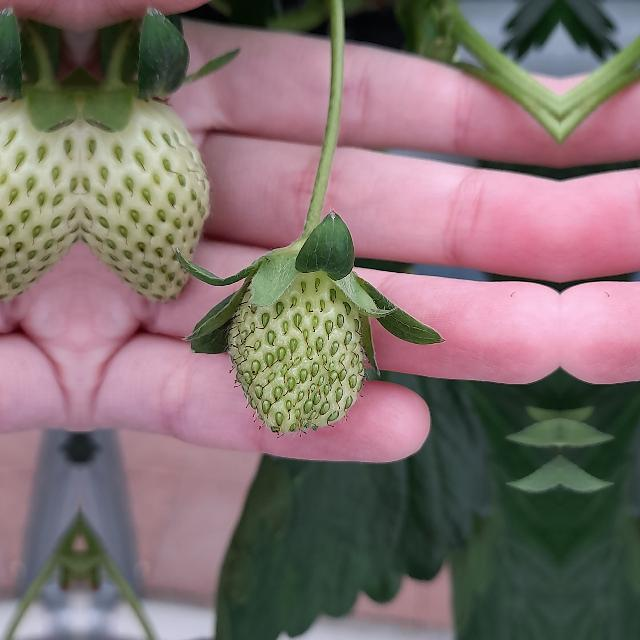Health_25: (80, 83, 212, 300), (228, 270, 364, 432), (0, 82, 79, 299)
